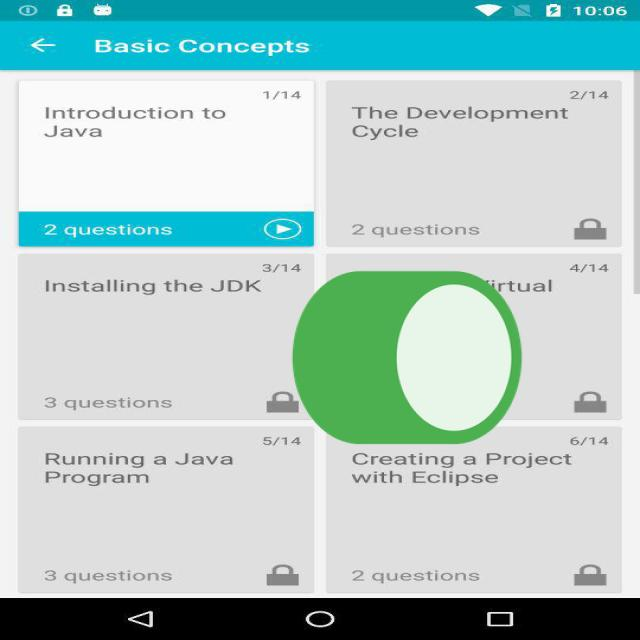social proof: (282, 205, 532, 524)
